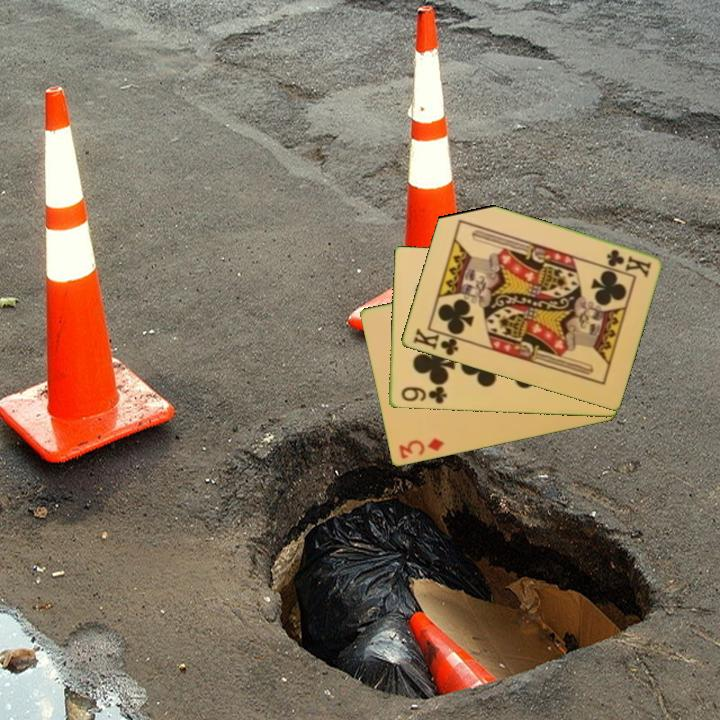3d: (395, 435, 447, 462)
9c: (397, 383, 450, 407)
Kc: (409, 325, 466, 359), (602, 246, 654, 279)
